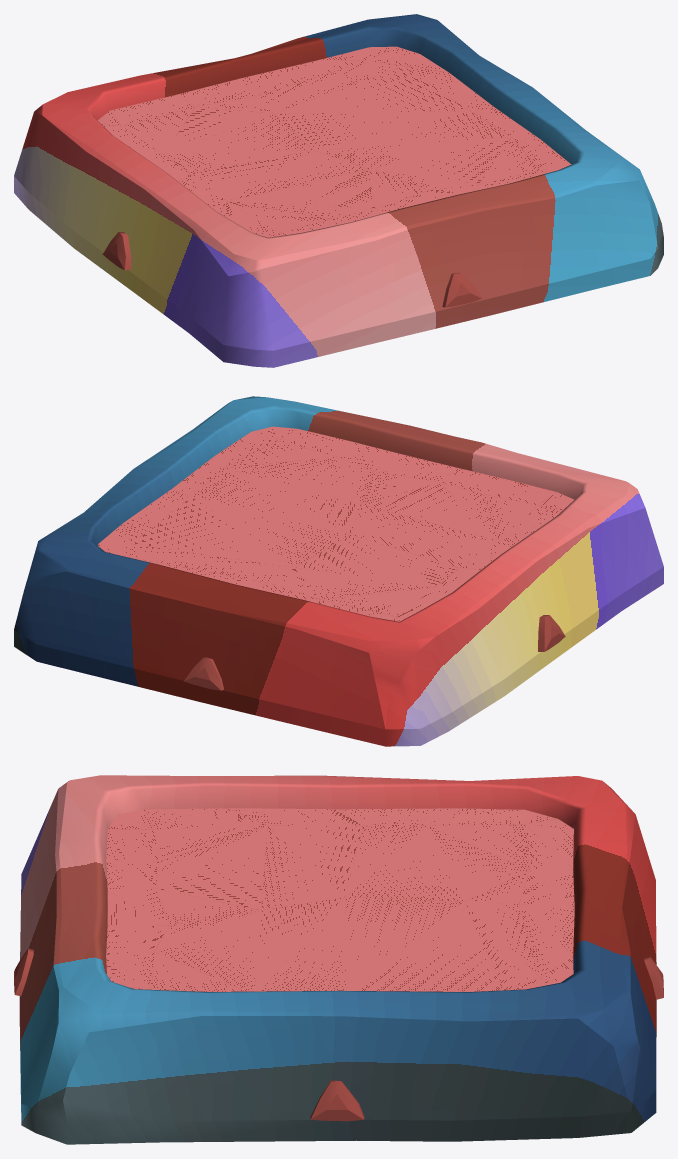
Rendered from Prop_AP30ChallengeBouncePad_Level1.glb.
3 renders of one model, top to bottom at view 1: azimuth 30°, elevation 25°; view 2: azimuth 150°, elevation 25°; view 3: azimuth 270°, elevation 25°, orthographic. The views are drawn at different scales.
Parts seen in each view (by area): view 1: Prop_AP30ChallengeBouncePad_Level1; view 2: Prop_AP30ChallengeBouncePad_Level1; view 3: Prop_AP30ChallengeBouncePad_Level1.
Boxes of the visible parts, box(x1,y1,x2,y2) form: Prop_AP30ChallengeBouncePad_Level1: box(14, 14, 663, 367); Prop_AP30ChallengeBouncePad_Level1: box(14, 396, 663, 746); Prop_AP30ChallengeBouncePad_Level1: box(14, 775, 663, 1144).
Bounding box in the file's own units: 1.01 × 0.2124 × 1.03.
Materials: 1 (1 with a texture image).
